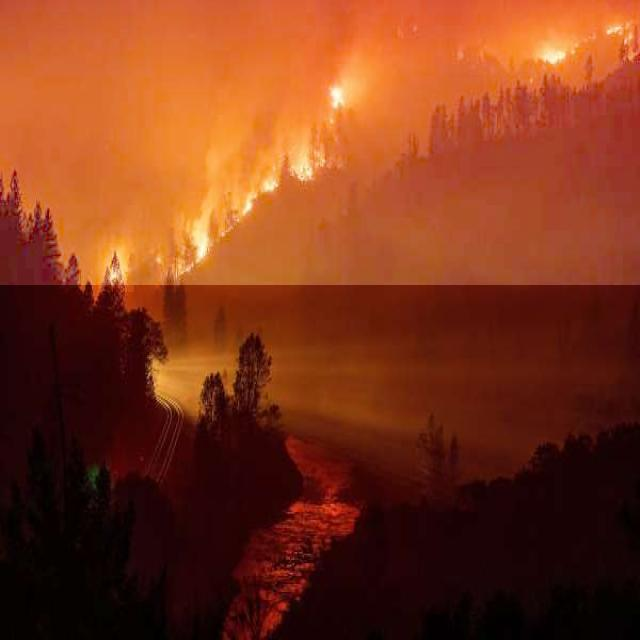Fire: (164, 83, 359, 282), (536, 21, 636, 61), (98, 234, 134, 292)
Smoke: (0, 0, 640, 285)
